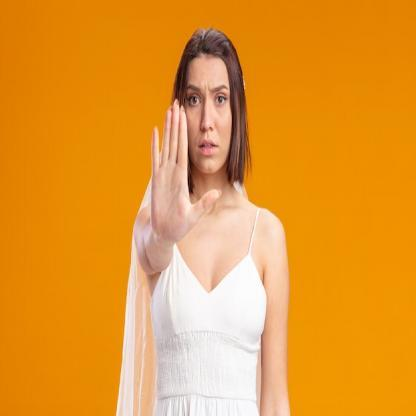stop: (148, 94, 223, 246)
